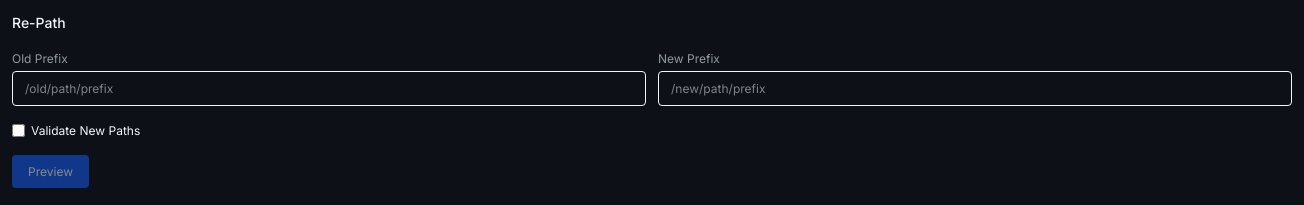
RePathPanel › enables preview button when both prefix inputs have values
Type "/old" into the field with test id "old-prefix-input".
click(329, 88); type("/old")  # box [12,71,646,106]
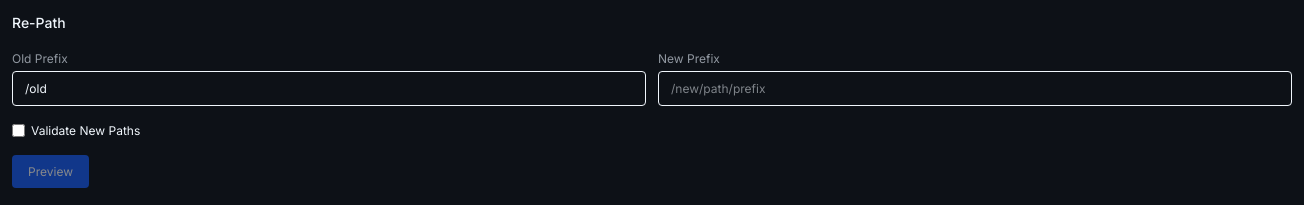
Type "/new" into the field with test id "new-prefix-input".
click(975, 88); type("/new")  # box [658,71,1292,106]
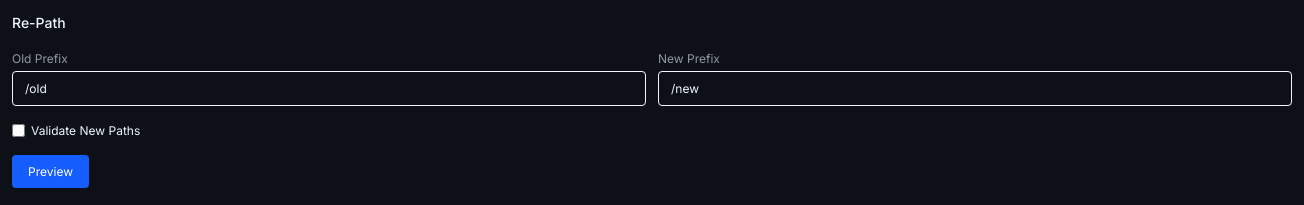
Result: the button with test id "preview-btn" is enabled at [12,155,89,188]
